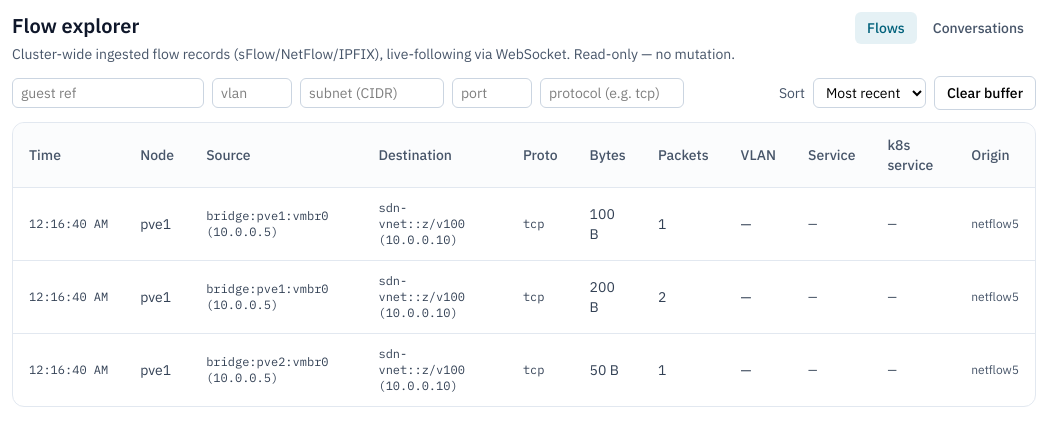
Scenario: FlowExplorer › aggregates by conversation pair when the Conversations tab is selected
Click the tab "Conversations" at [978, 28], box x1=921 y1=12 x2=1036 y2=44
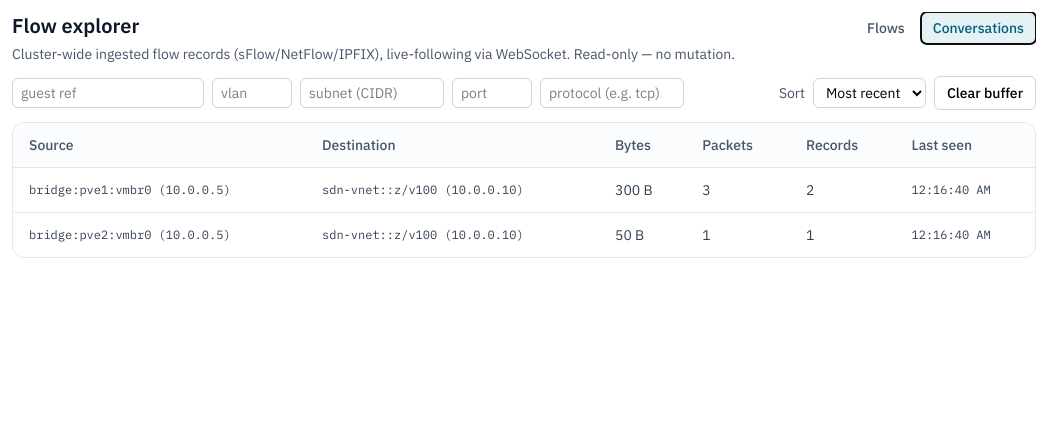
Check: the text "bridge:pve1:vmbr0 (10.0.0.5)" is shown, box x1=13 y1=168 x2=306 y2=212
Check: the text "300 B" is shown, box x1=599 y1=168 x2=686 y2=212
